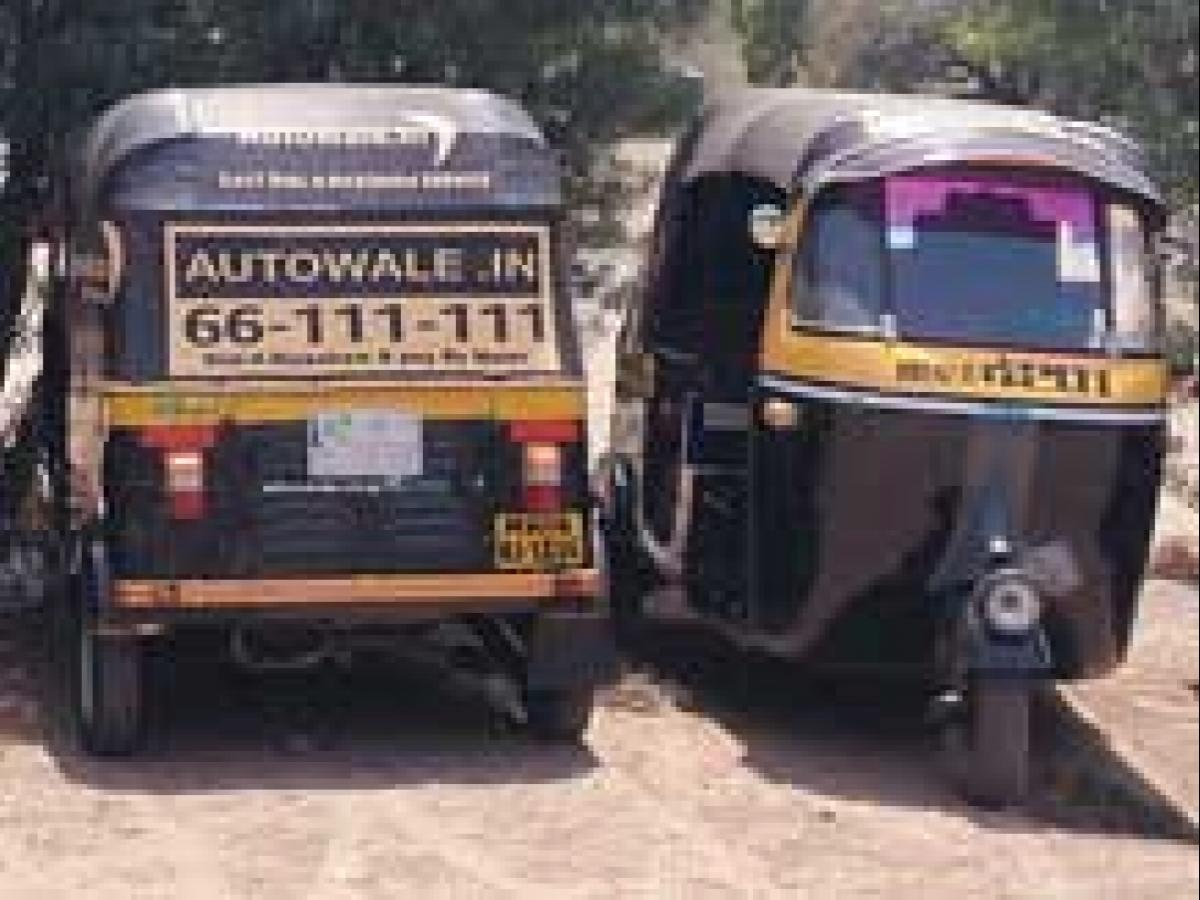rickshaw: (32, 75, 608, 779), (625, 70, 1180, 783)
